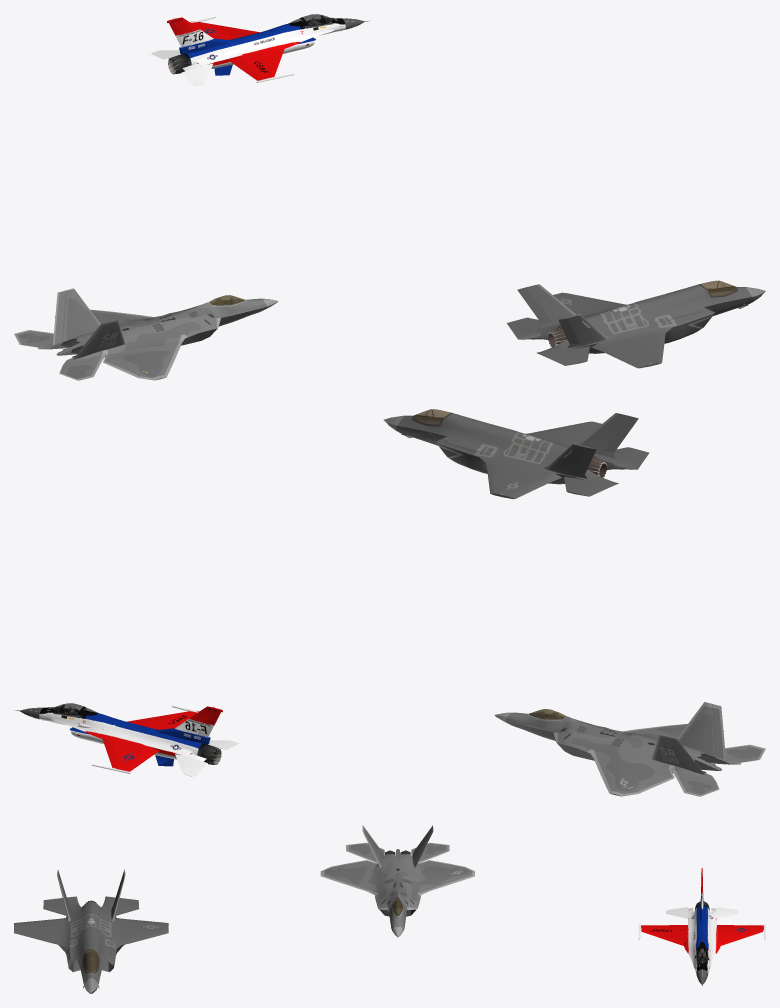
The model's file is oshff2.glb.
3 renders of one model, top to bottom at view 1: azimuth 30°, elevation 25°; view 2: azimuth 150°, elevation 25°; view 3: azimuth 270°, elevation 25°, orthographic. The views are drawn at different scales.
Visible parts, largest first — view 1: fuselage, Cylinder, gearDoorRight; view 2: fuselage, Cylinder, gearDoorRight; view 3: fuselage, Cylinder, gearDoorRight.
Part boxes in pixels (x1,y1,x2,y2): fuselage: [507, 280, 765, 368]; Cylinder: [14, 288, 278, 380]; gearDoorRight: [151, 14, 369, 85]; fuselage: [383, 409, 649, 499]; Cylinder: [494, 702, 765, 796]; gearDoorRight: [14, 703, 238, 776]; fuselage: [14, 869, 168, 993]; Cylinder: [320, 825, 474, 937]; gearDoorRight: [638, 868, 765, 985].
Size of the model in its own units: 41.54 by 10.23 by 62.32.
Materials: 31 (8 with a texture image).
